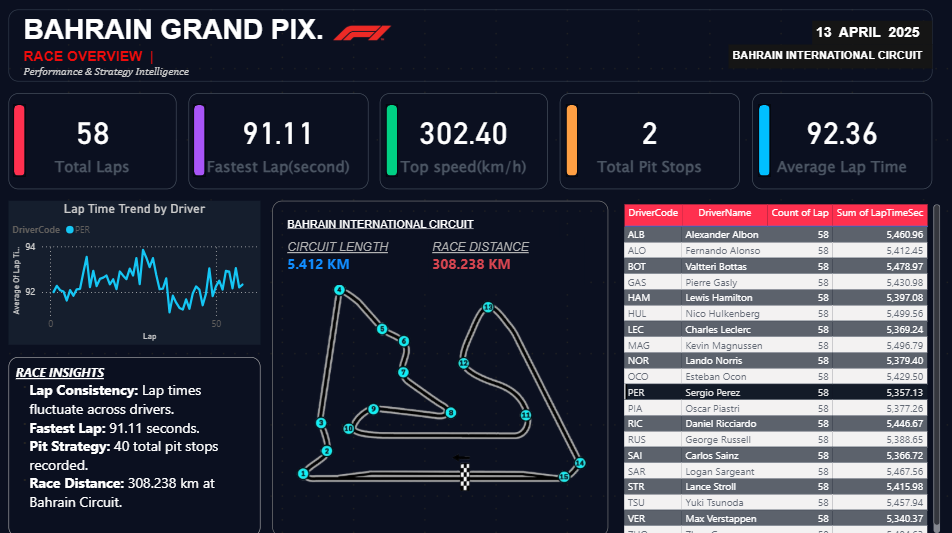

The page's visual inventory and layout, read from the dashboard file:
{"tool":"powerbi","page":{"name":"Page 1","canvas":[1280,720],"ordinal":0},"visuals":[{"type":"shape","box":[16,16,1232,96],"z":0},{"type":"textbox","box":[32,16,512,64],"z":1000},{"type":"textbox","box":[32,64,512,64],"z":2000},{"type":"textbox","box":[1088,32,160,32],"z":3000},{"type":"textbox","box":[976,64,272,32],"z":4000},{"type":"card","fields":{"Values":["Drivers.Total Laps"]},"box":[16,128,224,128],"z":5000},{"type":"card","fields":{"Values":["Drivers.Fastest Lap(second)"]},"box":[256,128,240,128],"z":6000},{"type":"card","fields":{"Values":["Drivers.Top speed(km/h)"]},"box":[512,128,224,128],"z":7000},{"type":"card","fields":{"Values":["Drivers.Total Pit Stops"]},"box":[752,128,240,128],"z":8000},{"type":"card","fields":{"Values":["Drivers.Average Lap Time"]},"box":[1008,128,240,128],"z":9000},{"type":"lineChart","title":"Lap Time Trend by Driver","fields":{"Category":["Race_Laps.Lap"],"Y":["Avg(Race_Laps.LapTimeSec)"],"Series":["Race_Laps.DriverCode"]},"box":[16,272,336,192],"z":10000},{"type":"tableEx","fields":{"Values":["Drivers.DriverCode","Drivers.DriverName","CountNonNull(Race_Laps.Lap)","Sum(Race_Laps.LapTimeSec)"]},"box":[832,272,432,448],"z":11000},{"type":"image","box":[368,272,448,448],"z":12000},{"type":"textbox","box":[384,288,368,32],"z":13000},{"type":"textbox","box":[384,320,208,64],"z":14000},{"type":"textbox","box":[576,320,208,64],"z":15000},{"type":"shape","box":[24,144,16,96],"z":16000},{"type":"shape","box":[264,144,16,96],"z":17000},{"type":"shape","box":[520,144,16,96],"z":18000},{"type":"shape","box":[760,144,16,96],"z":19000},{"type":"shape","box":[1016,144,16,96],"z":20000},{"type":"textbox","box":[16,480,336,240],"z":20001},{"type":"image","box":[288,0,400,96],"z":20002}]}

Visuals, with their boxes in screenshot pixels (x1, y1, x2, y2), scaled from the page's 1280x720 canvas onto the 952x533 screenshot:
shape: BBox(12, 12, 928, 83)
textbox: BBox(24, 12, 405, 59)
textbox: BBox(24, 47, 405, 95)
textbox: BBox(809, 24, 928, 47)
textbox: BBox(726, 47, 928, 71)
card - Drivers.Total Laps: BBox(12, 95, 178, 190)
card - Drivers.Fastest Lap(second): BBox(190, 95, 369, 190)
card - Drivers.Top speed(km/h): BBox(381, 95, 547, 190)
card - Drivers.Total Pit Stops: BBox(559, 95, 738, 190)
card - Drivers.Average Lap Time: BBox(750, 95, 928, 190)
"Lap Time Trend by Driver" lineChart: BBox(12, 201, 262, 343)
tableEx - Drivers.DriverCode x Drivers.DriverName: BBox(619, 201, 940, 532)
image: BBox(274, 201, 607, 532)
textbox: BBox(286, 213, 559, 237)
textbox: BBox(286, 237, 440, 284)
textbox: BBox(428, 237, 583, 284)
shape: BBox(18, 107, 30, 178)
shape: BBox(196, 107, 208, 178)
shape: BBox(387, 107, 399, 178)
shape: BBox(565, 107, 577, 178)
shape: BBox(756, 107, 768, 178)
textbox: BBox(12, 355, 262, 532)
image: BBox(214, 0, 512, 71)
